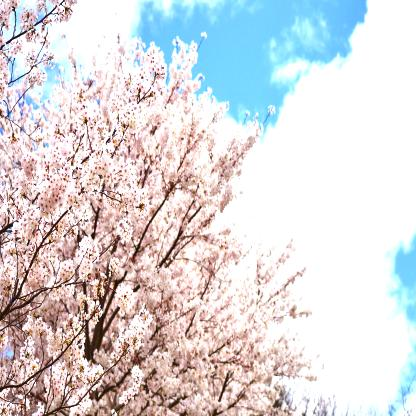Someiyoshino: (1, 1, 350, 414)
